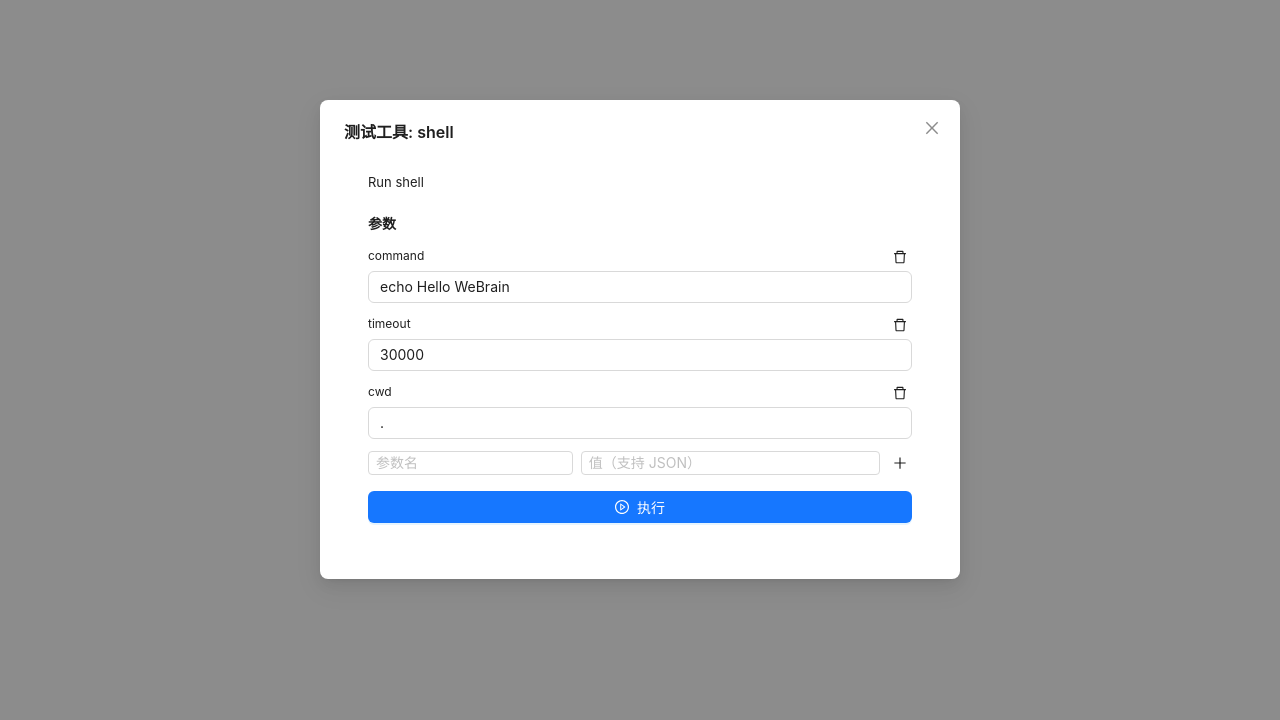
Test: ToolExecutorModal › adds custom param
Step 1. Type "custom" into the field with placeholder "参数名" → (470, 463), box [368,451,573,475]
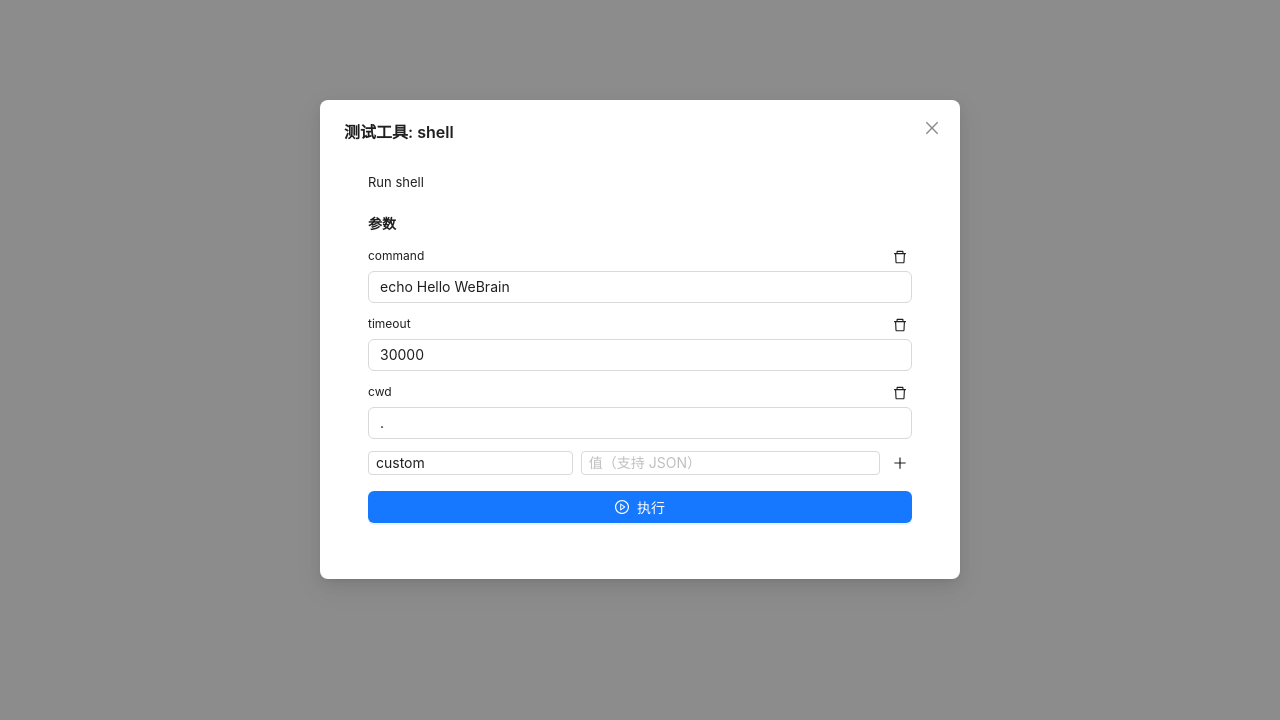
Step 2. Type "123" into the field with placeholder "值（支持 JSON）" → (730, 463), box [581,451,880,475]
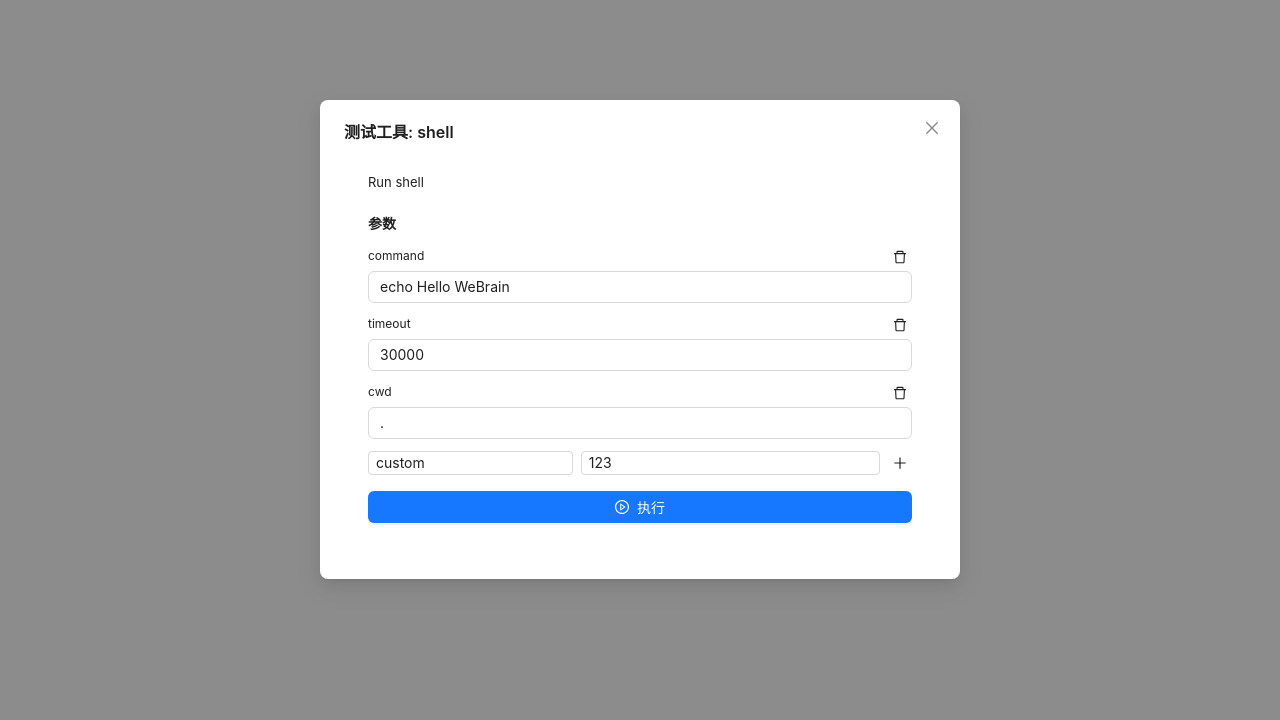
Step 3. Click the 4th button named "plus" → (900, 463), box [888,451,912,475]
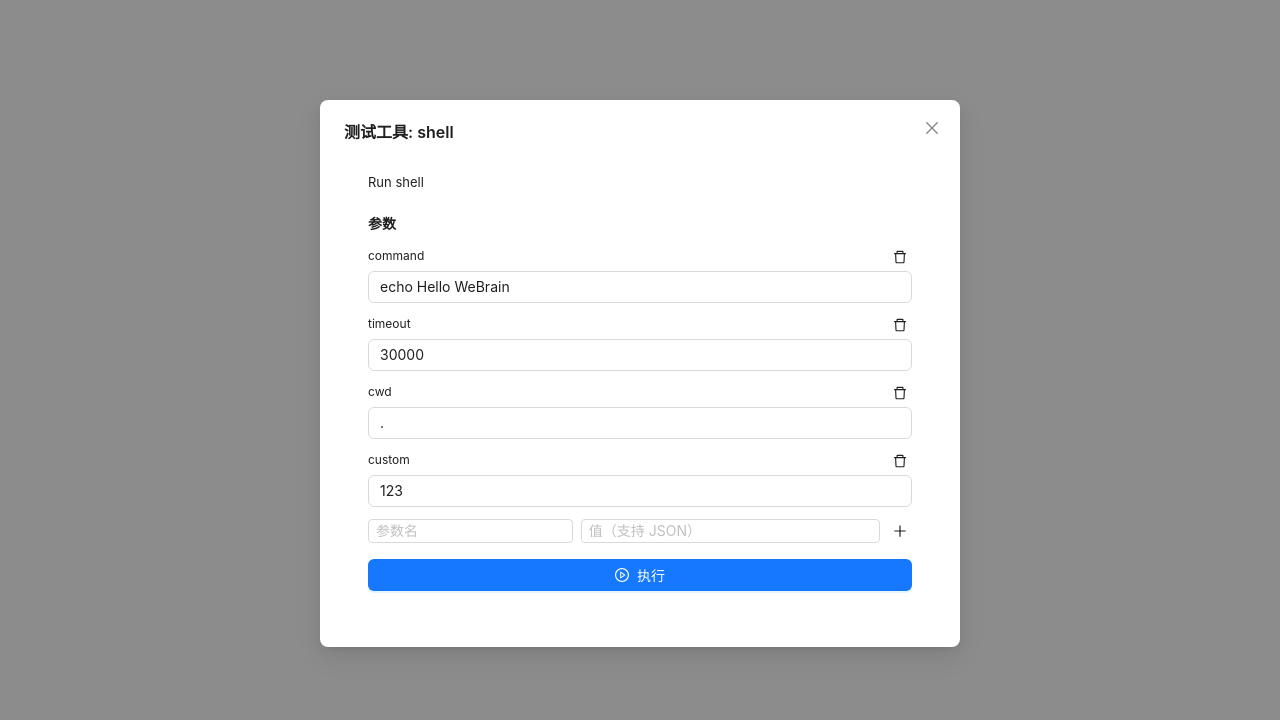
Expected: the text "custom" is shown, [368,451,410,470]
